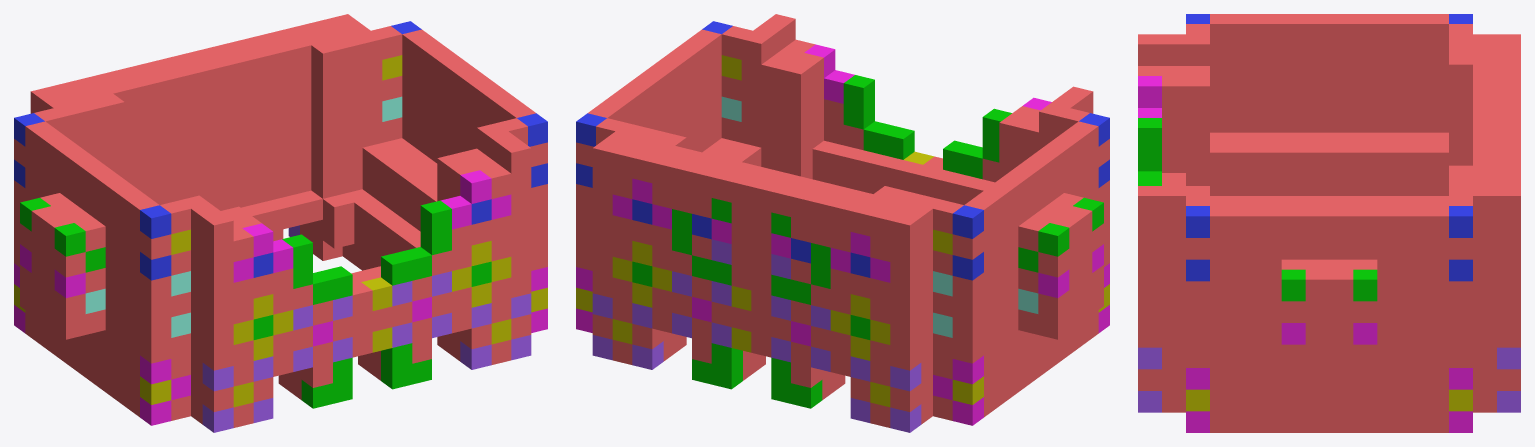
The model's file is red_vaca.fbx.
The picture shows the model from 3 angles, left to right: view 1: azimuth 30°, elevation 25°; view 2: azimuth 150°, elevation 25°; view 3: azimuth 270°, elevation 25°; orthographic projection. The views are drawn at different scales.
Parts seen in each view (by area): view 1: red_vaca; view 2: red_vaca; view 3: red_vaca.
Part boxes in pixels (x1,y1,x2,y2): red_vaca: (14, 14, 547, 432); red_vaca: (576, 14, 1109, 432); red_vaca: (1138, 14, 1520, 432).
Size of the model in its own units: 2.4 by 1 by 1.6.
Materials: 1 (1 with a texture image).
